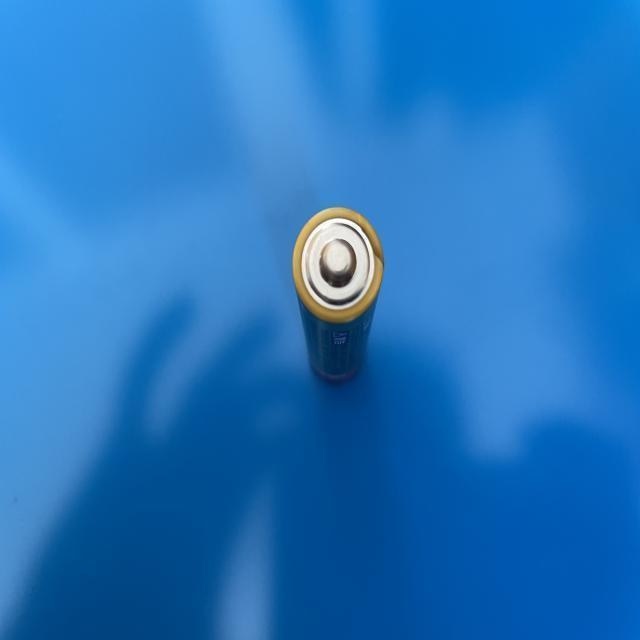Hazard: (288, 202, 386, 388)
